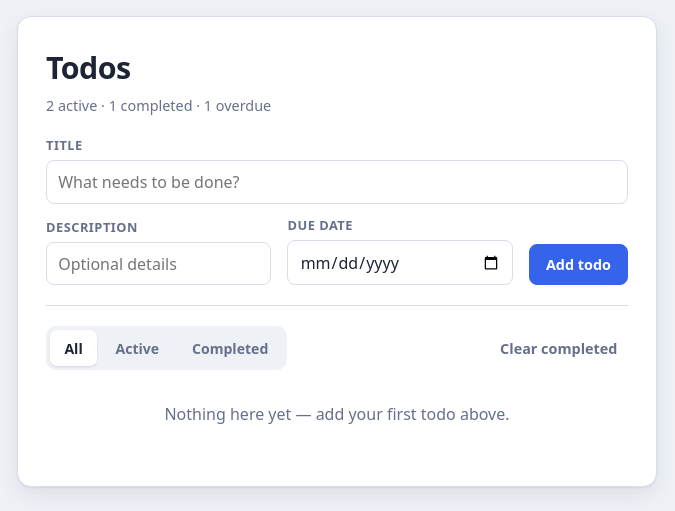
it: App › adds a todo and refreshes the list and stats
Expected: the text "Nothing here yet — add your first todo above." is shown, [164, 403, 510, 425]
In the field labelled "Title": (337, 182) [46, 160, 628, 204], type "Buy milk"
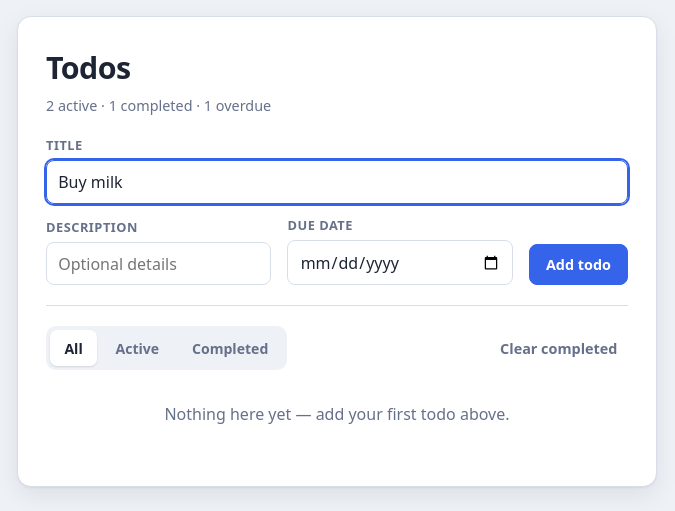
Click the button "Add todo": (578, 265) [529, 244, 628, 285]
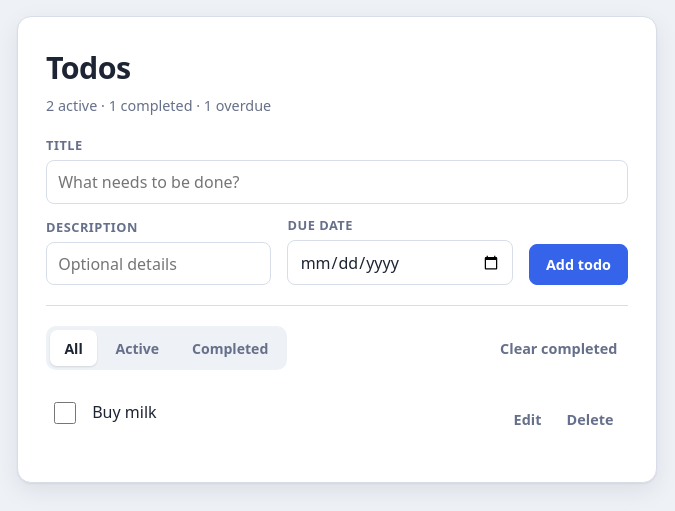
Now the text "Buy milk" is shown, box [92, 401, 157, 423]
Now the field labelled "Title" is empty, box [46, 160, 628, 204]
